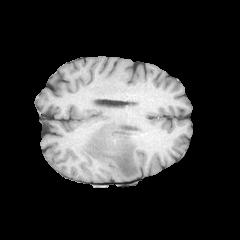glioma: (81, 120, 139, 178)
